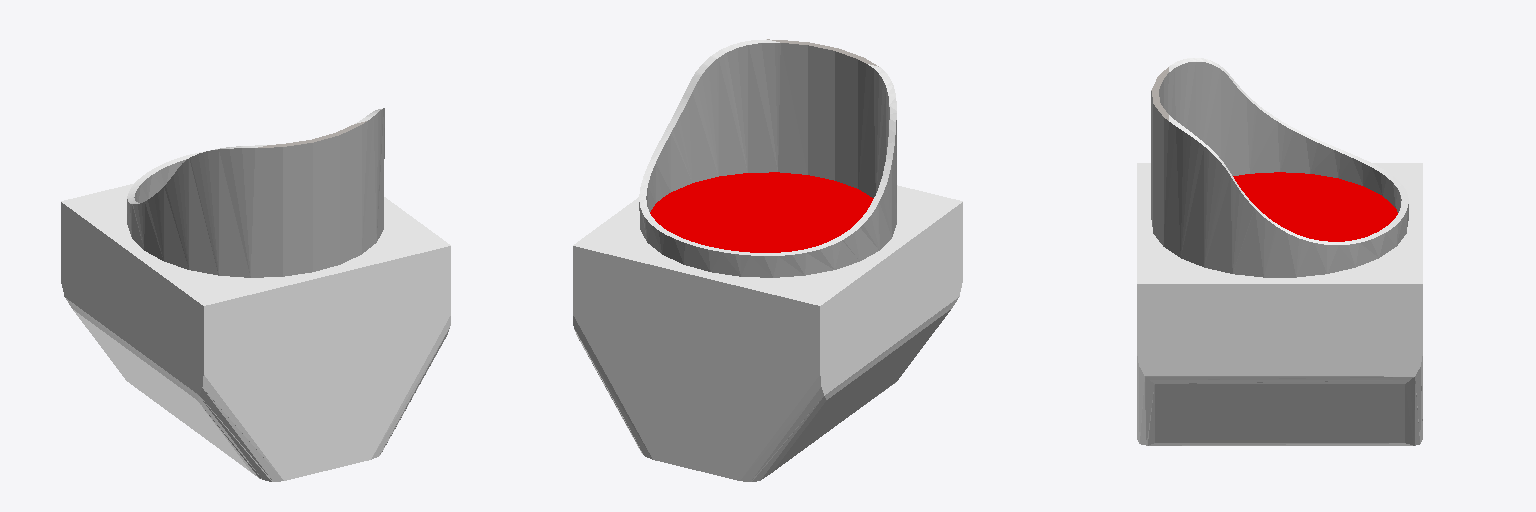
The model's file is fos_peh.obj.
3 views of the same model, side by side, from view 1: azimuth 30°, elevation 25°; view 2: azimuth 150°, elevation 25°; view 3: azimuth 270°, elevation 25° (orthographic).
Visible parts, largest first — view 1: ________0; view 2: ________0; view 3: ________0.
Boxes of the visible parts, <box> form: ________0: <box>61,108,450,481</box>; ________0: <box>573,39,962,481</box>; ________0: <box>1137,58,1422,445</box>.
Bounding box in the file's own units: 0.004 × 0.005 × 0.004.